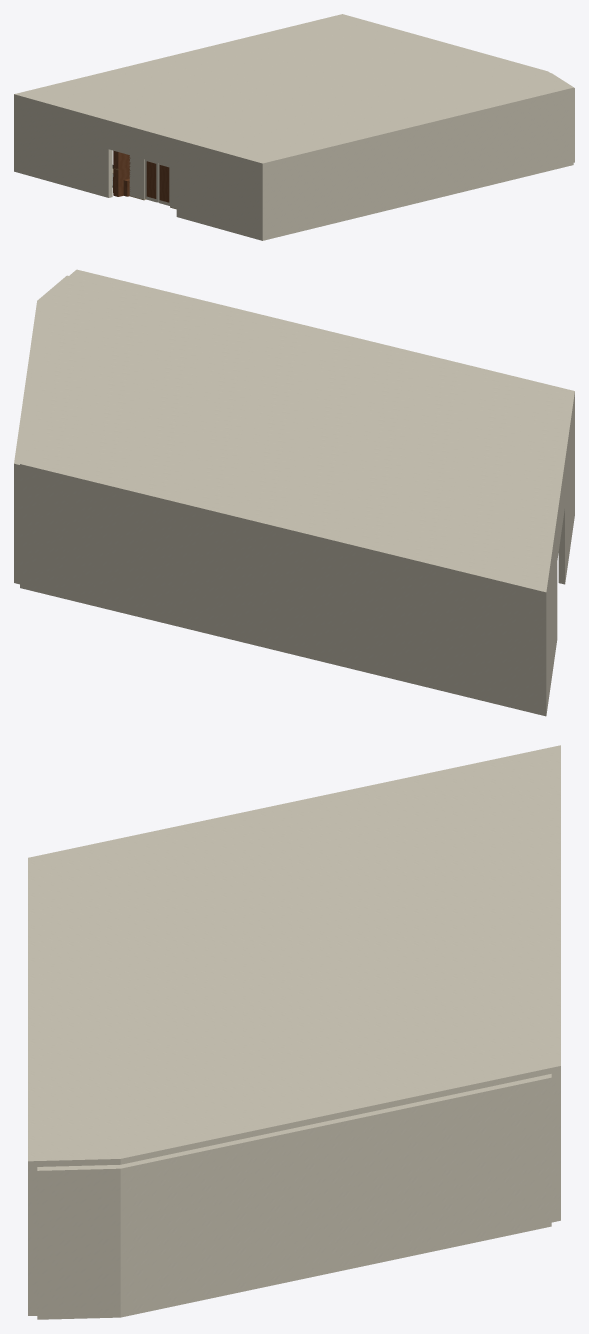
The picture shows the model from 3 angles, top to bottom: view 1: azimuth 30°, elevation 25°; view 2: azimuth 150°, elevation 25°; view 3: azimuth 270°, elevation 25°; orthographic projection. The views are drawn at different scales.
Visible parts, largest first — view 1: PremiumPressureClosure, ForePartyWall, InnerAftPartyReturn, InnerForePartyReturn, ArrivalHeader, PrivateEntry_01_ENTRY_PocketSkin_1_1, ArrivalAftPocket, PrivateEntry_01_ENTRY_TimberInset_LEFT_1, PrivateEntry_01_ENTRY_TimberInset_RIGHT_1; view 2: PremiumPressureClosure, AftPartyWall, InnerAftPartyReturn, HeldFrontageOpaqueEnclosure, InnerForePartyReturn; view 3: PremiumPressureClosure, HeldFrontageOpaqueEnclosure, AftPartyWall, ForePartyWall.
Boxes of the visible parts, x1=… form: PremiumPressureClosure: x1=14, y1=14, x2=573, y2=166; ForePartyWall: x1=258, y1=90, x2=573, y2=240; InnerAftPartyReturn: x1=14, y1=97, x2=112, y2=197; InnerForePartyReturn: x1=176, y1=142, x2=266, y2=240; ArrivalHeader: x1=108, y1=123, x2=176, y2=167; PrivateEntry_01_ENTRY_PocketSkin_1_1: x1=129, y1=155, x2=144, y2=199; ArrivalAftPocket: x1=113, y1=150, x2=129, y2=196; PrivateEntry_01_ENTRY_TimberInset_LEFT_1: x1=159, y1=165, x2=169, y2=202; PrivateEntry_01_ENTRY_TimberInset_RIGHT_1: x1=146, y1=161, x2=156, y2=198; PremiumPressureClosure: x1=20, y1=269, x2=574, y2=596; AftPartyWall: x1=20, y1=469, x2=545, y2=715; InnerAftPartyReturn: x1=540, y1=521, x2=557, y2=716; HeldFrontageOpaqueEnclosure: x1=14, y1=275, x2=68, y2=584; InnerForePartyReturn: x1=558, y1=399, x2=574, y2=584; PremiumPressureClosure: x1=28, y1=745, x2=560, y2=1167; HeldFrontageOpaqueEnclosure: x1=37, y1=1074, x2=551, y2=1319; AftPartyWall: x1=551, y1=1072, x2=560, y2=1222; ForePartyWall: x1=28, y1=1167, x2=37, y2=1315.
Bounding box in the file's own units: 25.87 × 4.45 × 13.88.
Materials: 158 (152 with a texture image).
